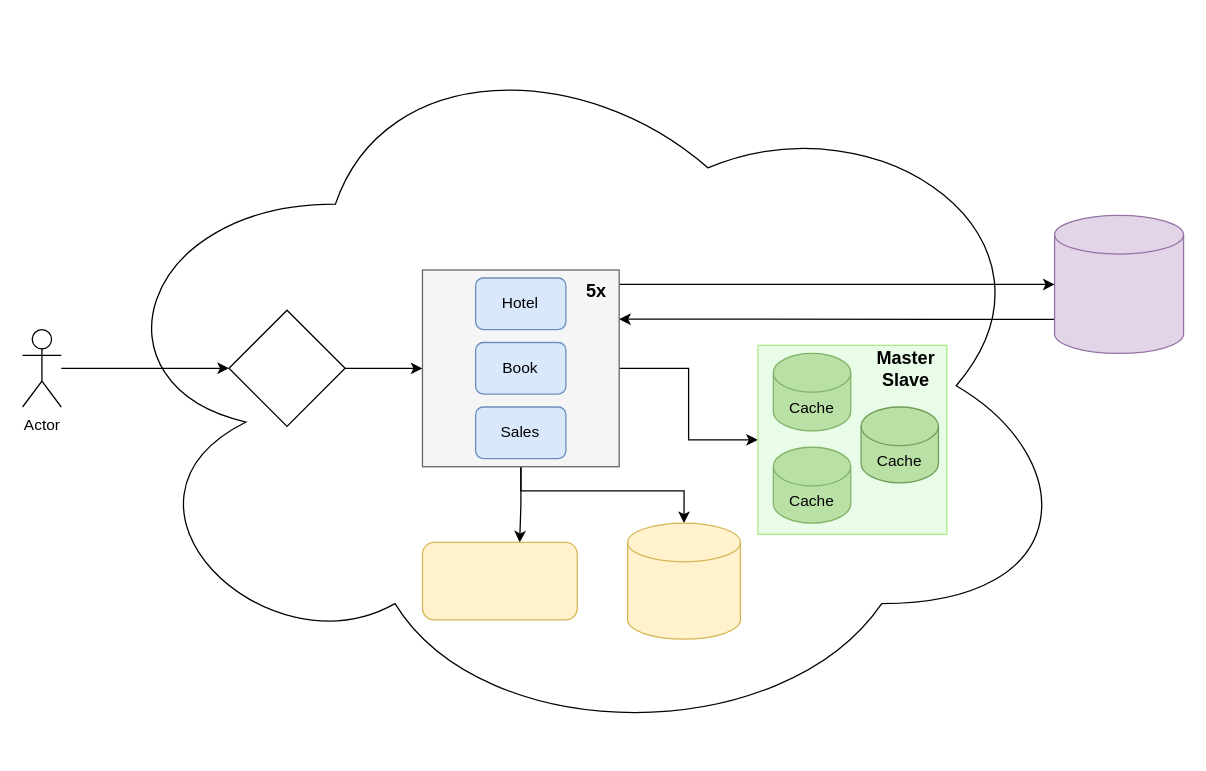
This 1206x771 diagram has some shape labels left out. Each missing label, with the box of its shape:
Database: (1053, 214, 1184, 353)
LoadBalancer: (228, 309, 345, 426)
Metrics UI: (421, 541, 577, 620)
Search & Analytics solution: (626, 522, 740, 639)
